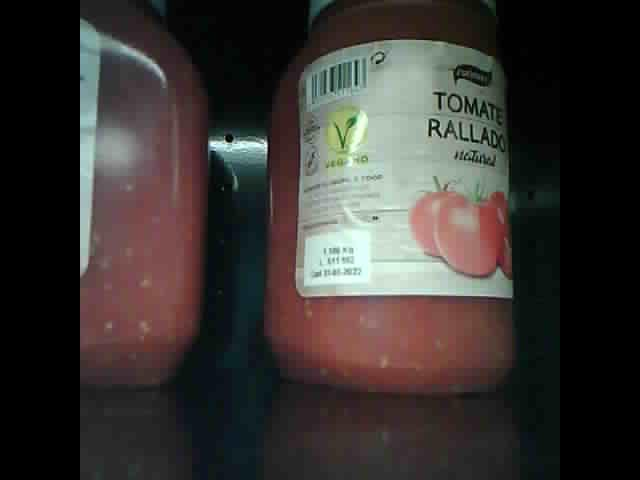tomate: (265, 5, 516, 397), (81, 4, 208, 390)
